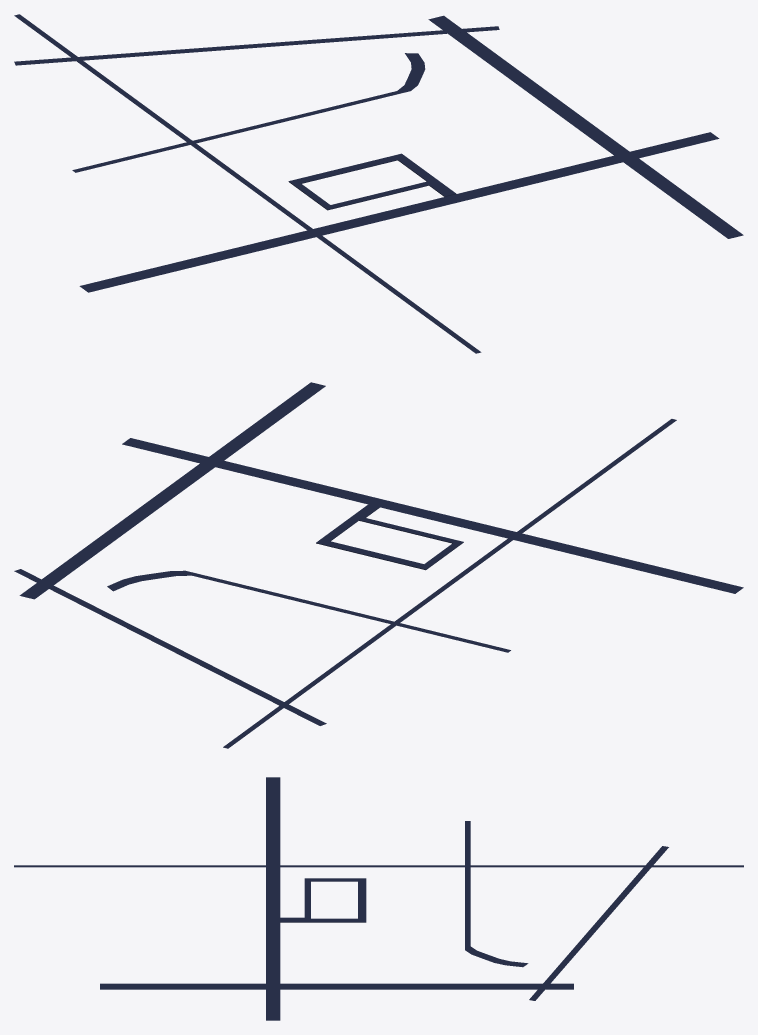
File: gc_ground.glb
3 views of the same model, one above another, from view 1: azimuth 30°, elevation 25°; view 2: azimuth 150°, elevation 25°; view 3: azimuth 270°, elevation 25° (orthographic). The views are drawn at different scales.
Parts seen in each view (by area): view 1: 111, Plane; view 2: 111, Plane; view 3: 111, Plane.
Boxes of the visible parts, x1,y1,x2,y2 form: 111: (14, 14, 743, 353); Plane: (288, 153, 456, 210); 111: (14, 382, 743, 748); Plane: (316, 504, 463, 570); 111: (14, 777, 743, 1020); Plane: (280, 878, 366, 922).
Size of what is drawn, in the model's own units: 245 by 0.2464 by 310.
